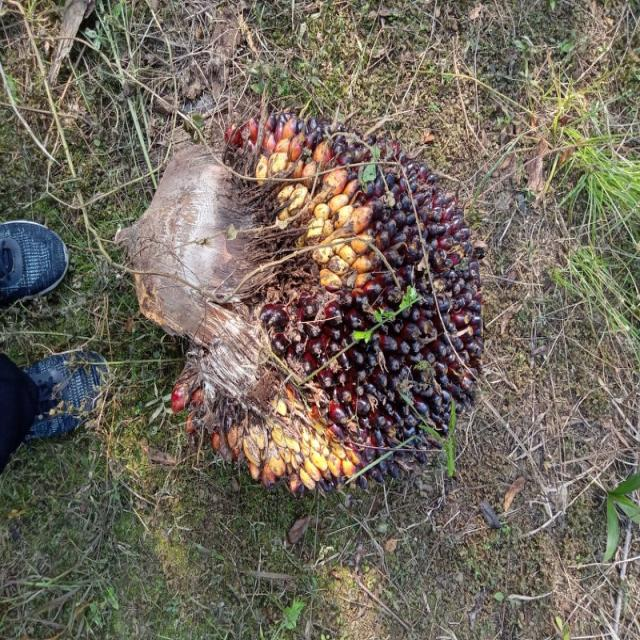fraksi 00: (189, 113, 487, 501)
